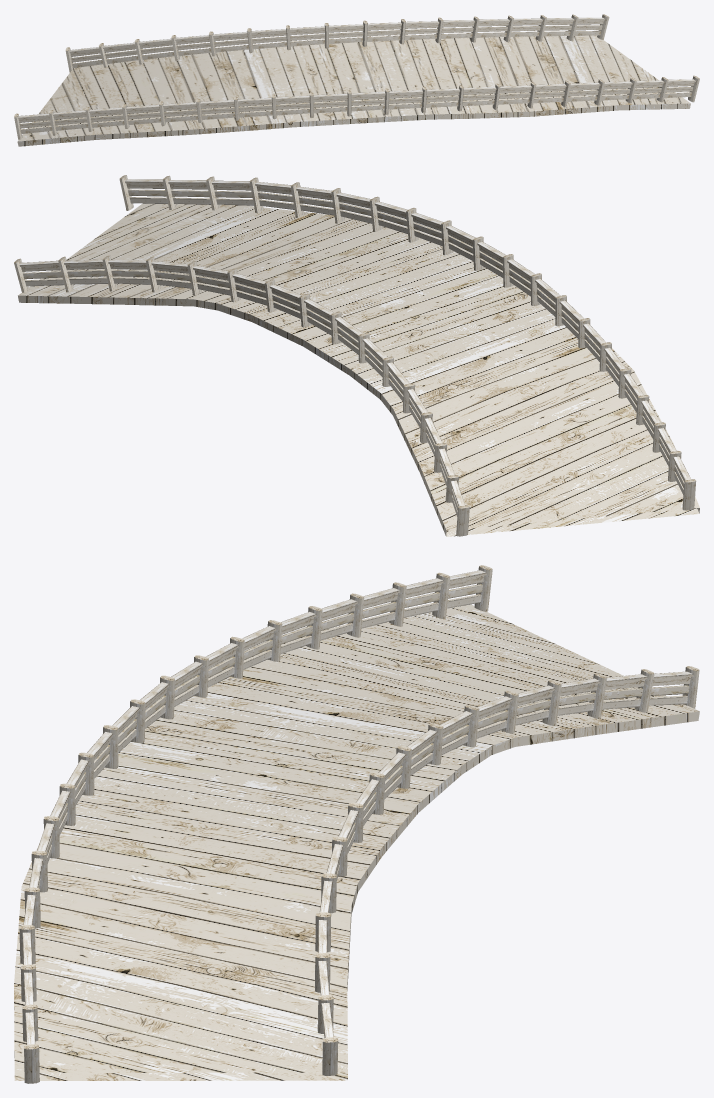
Rendered from Gazebo Bridge curved 2.fbx.
3 renders of one model, top to bottom at view 1: azimuth 30°, elevation 25°; view 2: azimuth 150°, elevation 25°; view 3: azimuth 270°, elevation 25°, orthographic. The views are drawn at different scales.
Parts seen in each view (by area): view 1: Cube.011; view 2: Cube.011; view 3: Cube.011.
Boxes of the visible parts, x1=… form: Cube.011: x1=14, y1=14, x2=699, y2=146; Cube.011: x1=14, y1=175, x2=699, y2=536; Cube.011: x1=14, y1=565, x2=699, y2=1083.
Size of the model in its own units: 1280 by 145 by 774.
